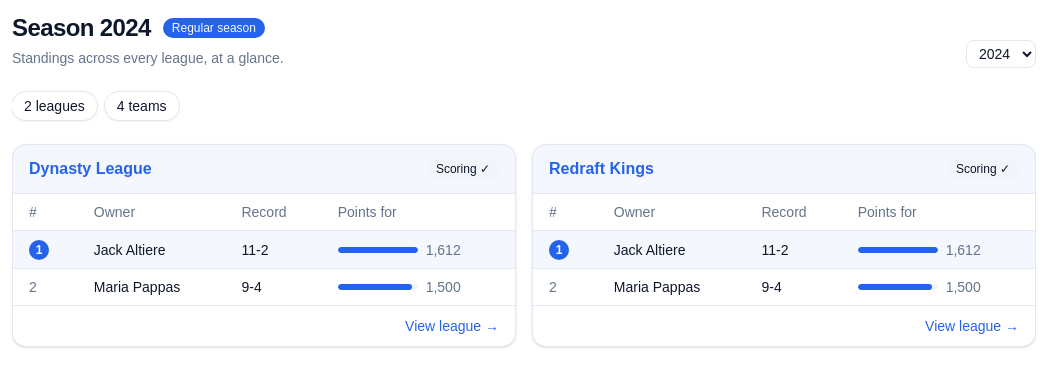
Test: the season switcher changes the shown season
Expected: the heading "Season 2024" is shown, x1=12 y1=12 x2=151 y2=44
Select "2023" in the dropdown named "Season" at {"x": 1001, "y": 54}, box x1=966 y1=40 x2=1036 y2=68
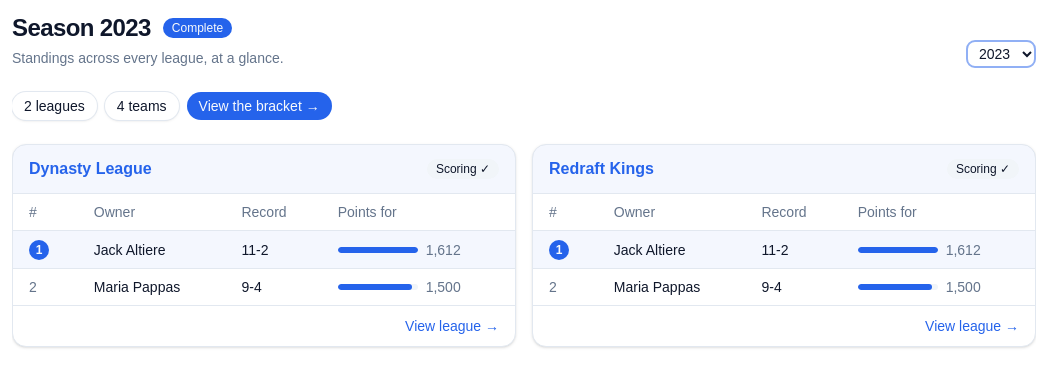
Now the heading "Season 2023" is shown, box x1=12 y1=12 x2=151 y2=44
